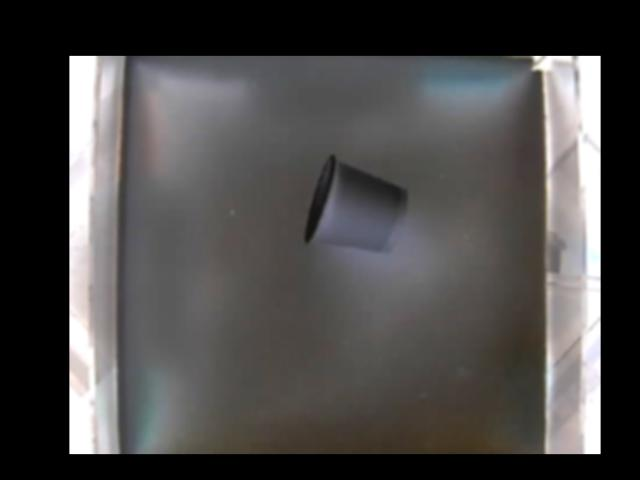Cup: (305, 154, 410, 254)
